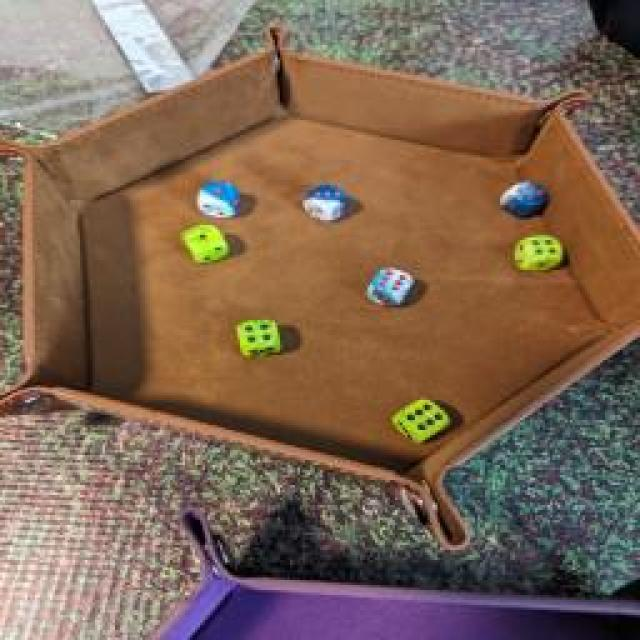dice_1: (179, 222, 239, 268), (196, 180, 242, 220)
dice_3: (296, 180, 356, 225)
dice_4: (508, 234, 568, 276), (229, 317, 286, 355), (498, 175, 552, 215)
dice_6: (356, 265, 426, 310), (389, 394, 451, 438)
